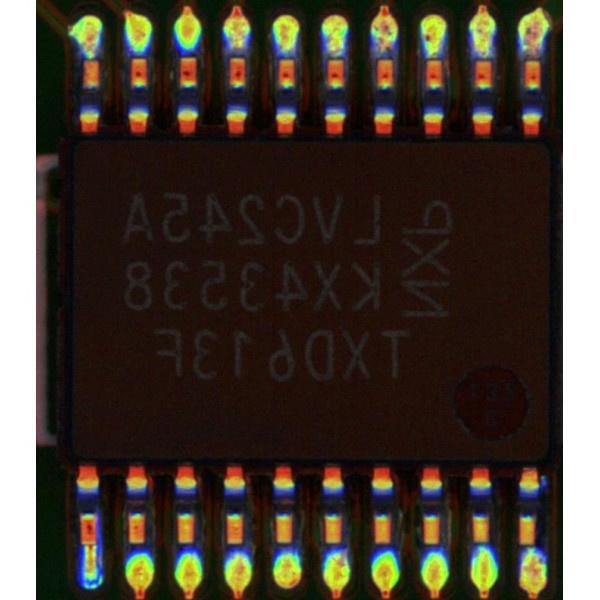Bad_podu: (84, 533, 95, 560)
